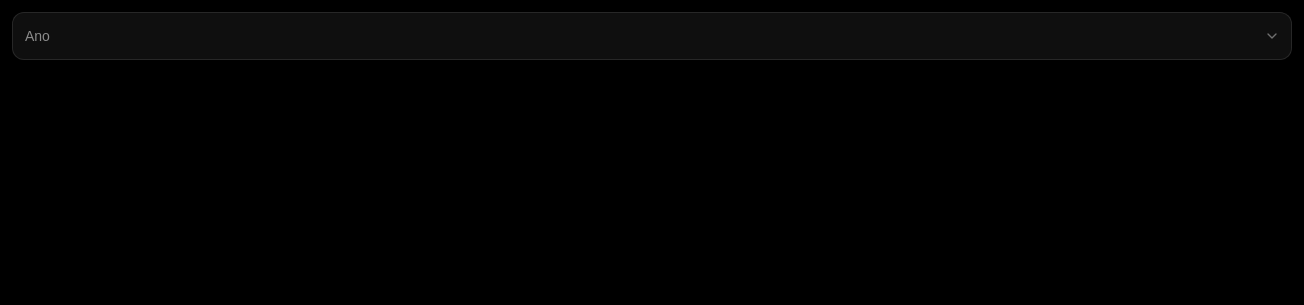
it: YearCombobox › a lista filtra pelo que foi digitado e dá para escolher tocando
Type "198" into the field with placeholder "Ano". click: (652, 36)
box: top-left (12, 12), bottom-right (1292, 60)
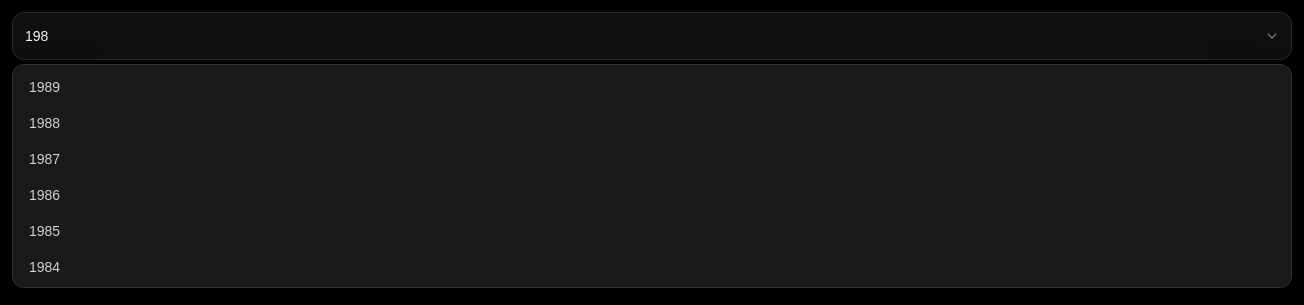
Click the button "1985". click: (45, 231)
box: top-left (13, 213), bottom-right (1291, 249)
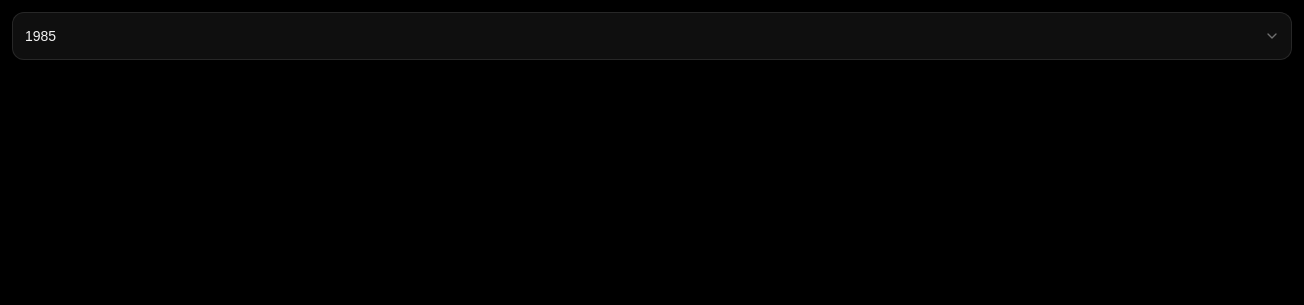
Expected: the field with placeholder "Ano" holds "1985", top-left (12, 12), bottom-right (1292, 60)
